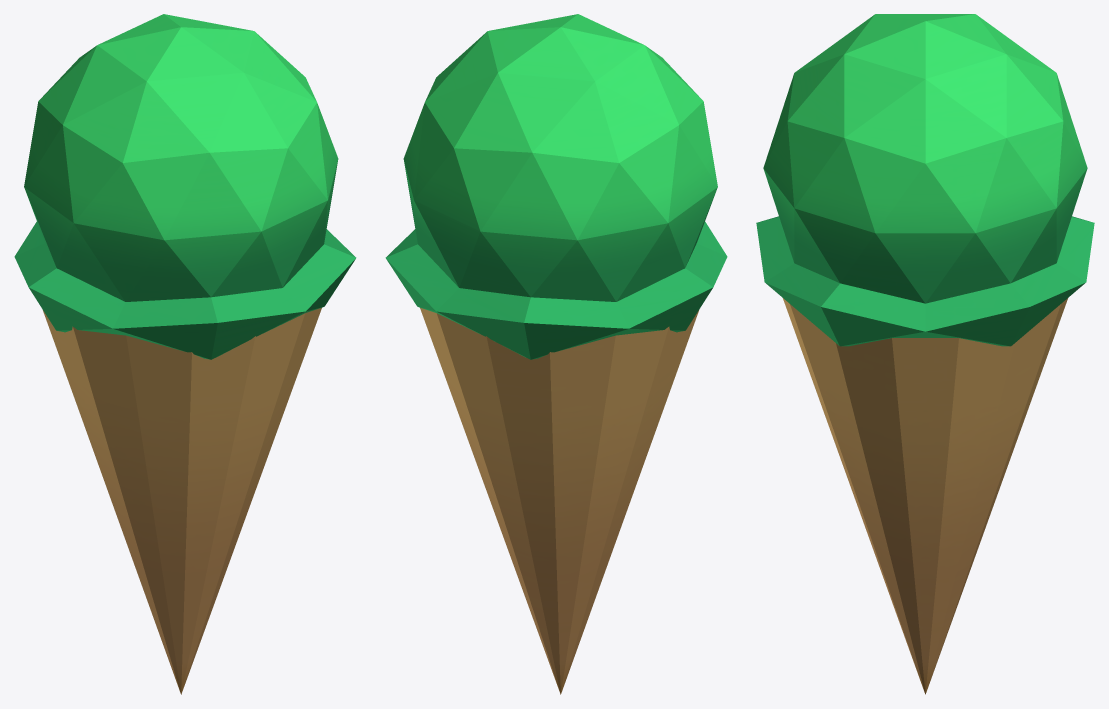
File: Icecream3.glb
3 views of the same model, side by side, from view 1: azimuth 30°, elevation 25°; view 2: azimuth 150°, elevation 25°; view 3: azimuth 270°, elevation 25° (orthographic).
Visible parts, largest first — view 1: Icecream; view 2: Icecream; view 3: Icecream.
Part boxes in pixels (bbox=[...]): Icecream: bbox=[14, 14, 356, 694]; Icecream: bbox=[385, 14, 727, 694]; Icecream: bbox=[756, 14, 1094, 694].
Size of the model in its own units: 0.8542 by 1.83 by 0.8327.
Materials: 1 (1 with a texture image).
